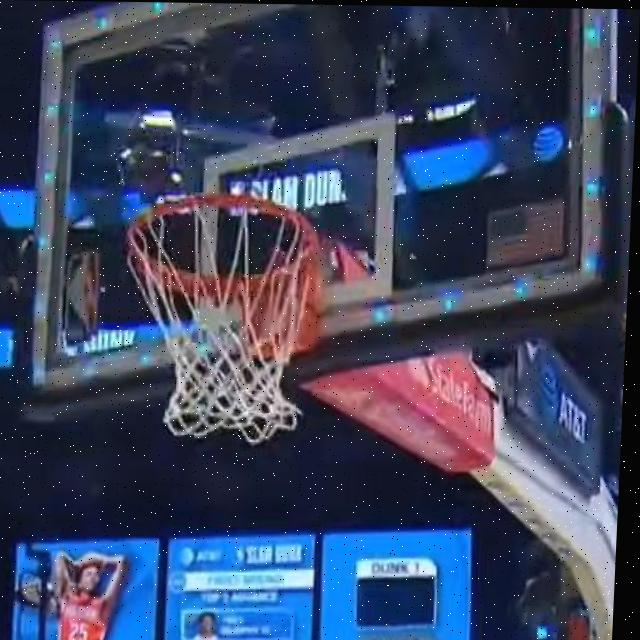hoop: (89, 204, 380, 452)
